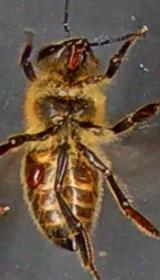varroa_mite: (17, 160, 53, 192)
